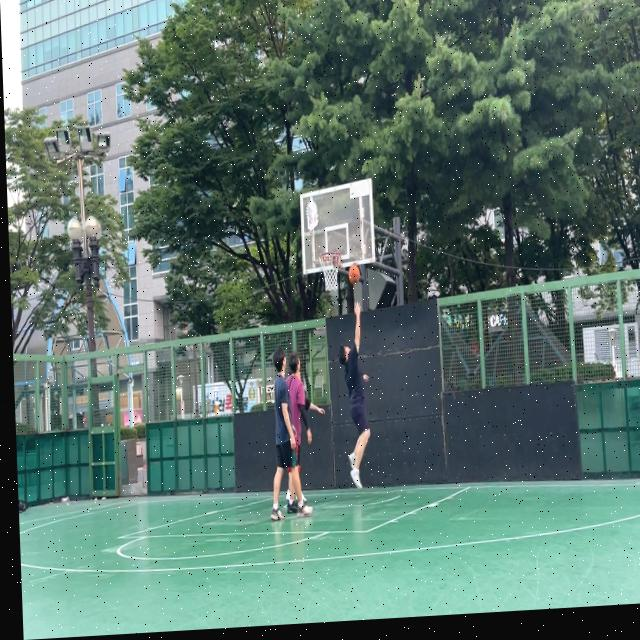basketball: (348, 263, 361, 285)
hoop: (318, 250, 342, 292)
